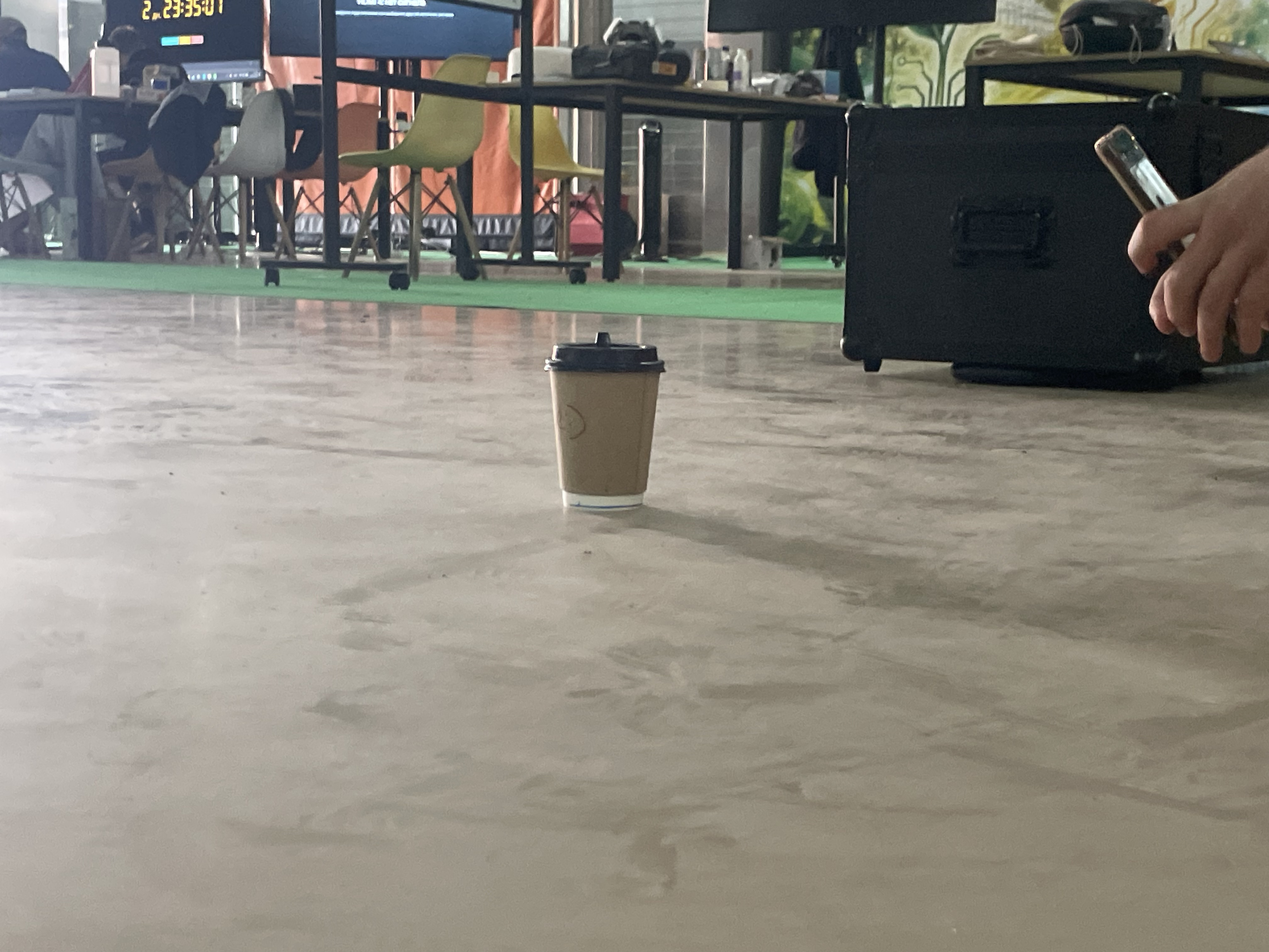cup: (545, 332, 667, 509)
